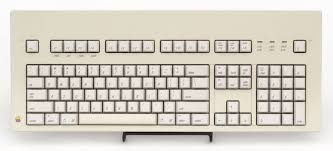keyboard: (5, 33, 328, 149)
